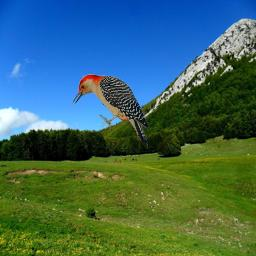Woodpecker: (72, 74, 151, 149)
